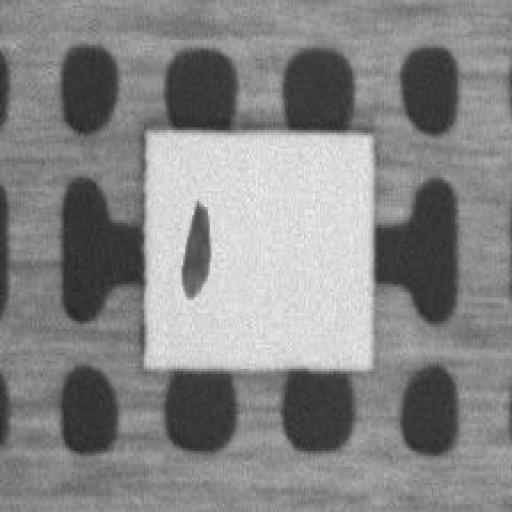DIE_INK: (176, 194, 208, 297)
